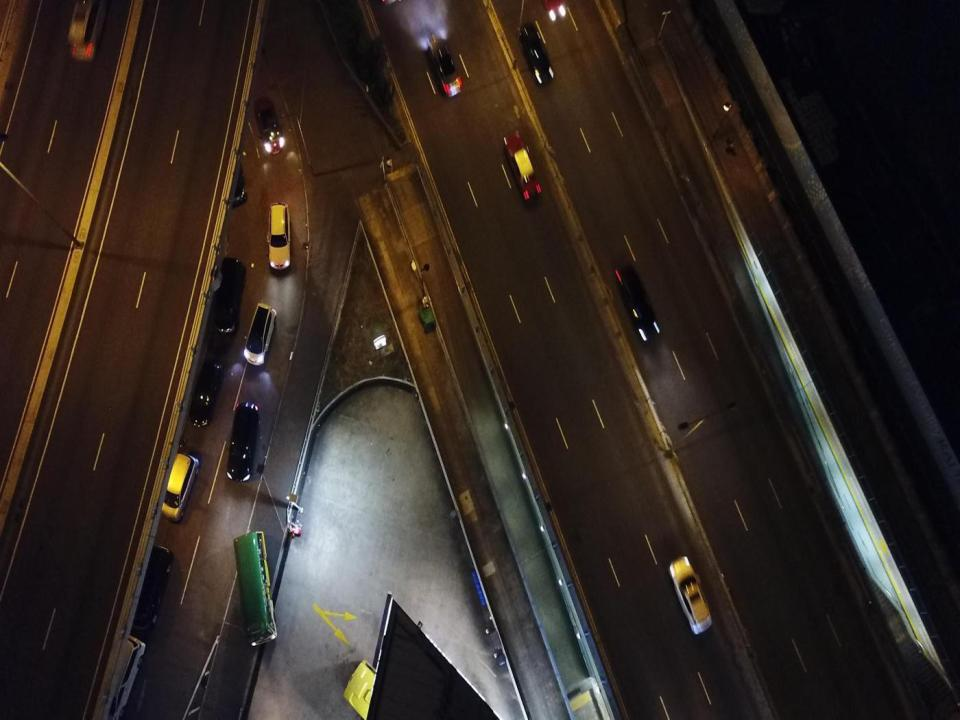bus: (341, 660, 436, 719), (231, 530, 277, 646)
car: (614, 262, 662, 346), (666, 553, 713, 637), (502, 126, 543, 205), (518, 12, 556, 87), (226, 400, 259, 482), (161, 450, 198, 522), (428, 30, 462, 96), (190, 355, 221, 427), (244, 300, 276, 369), (218, 140, 248, 209), (267, 201, 292, 275), (252, 98, 284, 154)
van: (92, 629, 146, 717), (130, 544, 174, 630), (69, 0, 110, 60), (213, 256, 244, 332)
